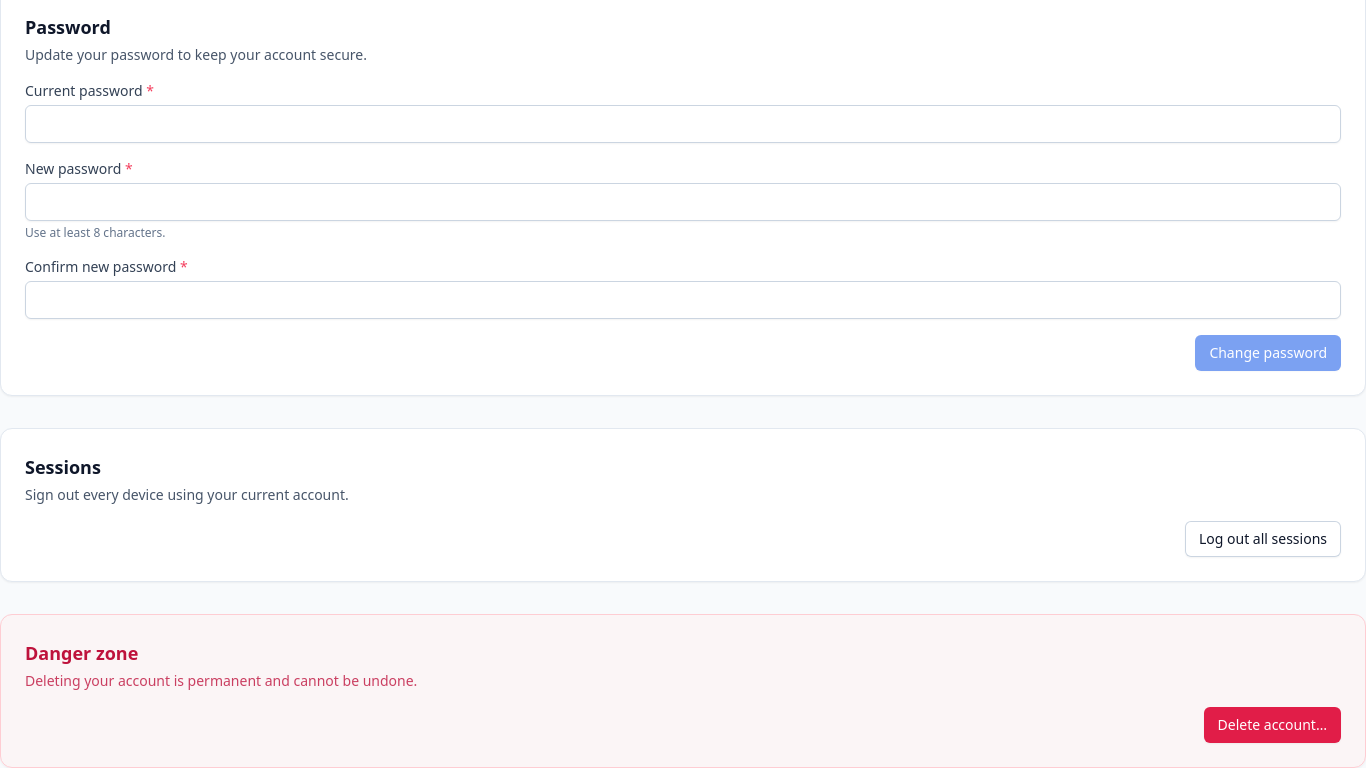
Test: ProfileView › requires the display name before enabling account deletion
The image size is (1366, 768).
(page scrolled)
Click the button with test id "open-delete-account" at (1272, 725), box [1204,707,1341,743]
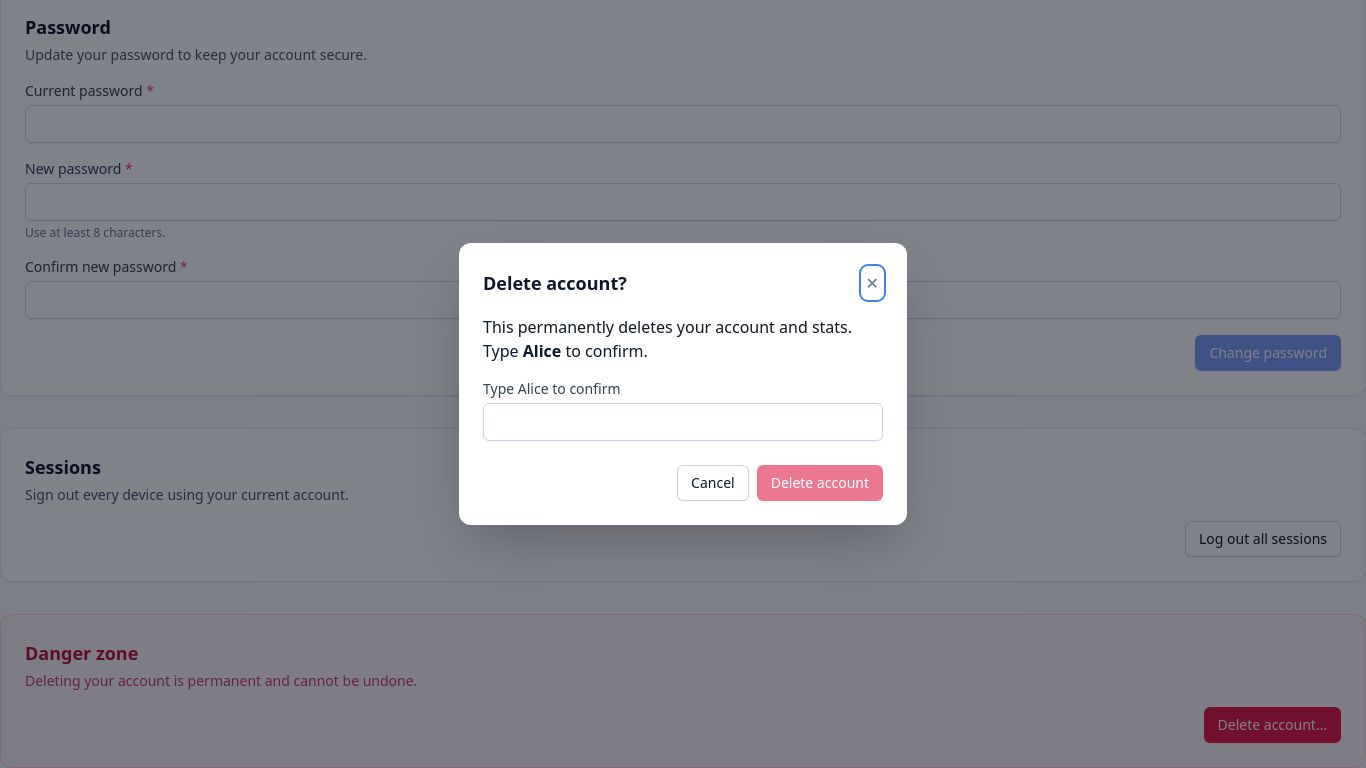
Expected: the button with test id "confirm-delete-account" is disabled, [757,465,883,501]
Type "Wrong" into the field with id "delete-account-confirmation" at (683, 422), box [483,403,883,441]
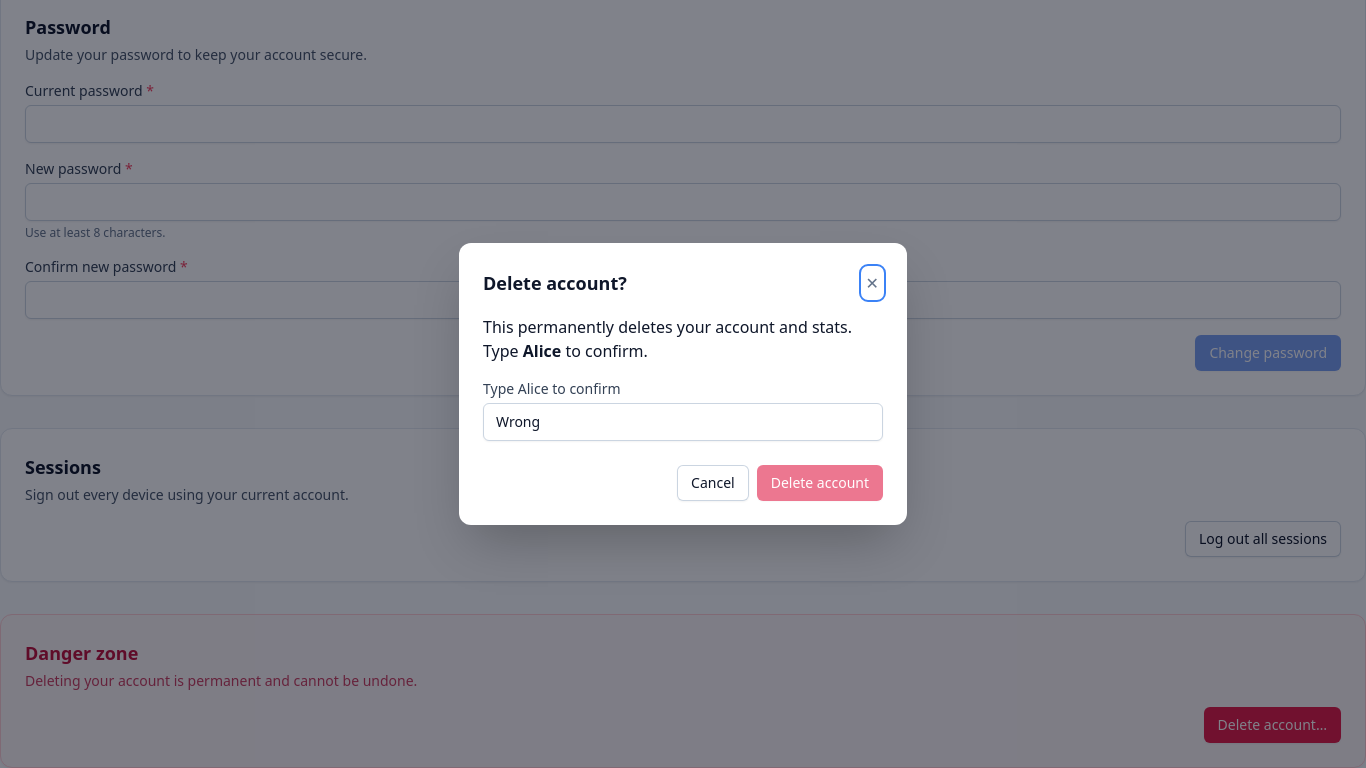
Expected: the button with test id "confirm-delete-account" is disabled, [757,465,883,501]
Replace the text in the field with id "delete-account-confirmation" with "Alice" at (683, 422), box [483,403,883,441]
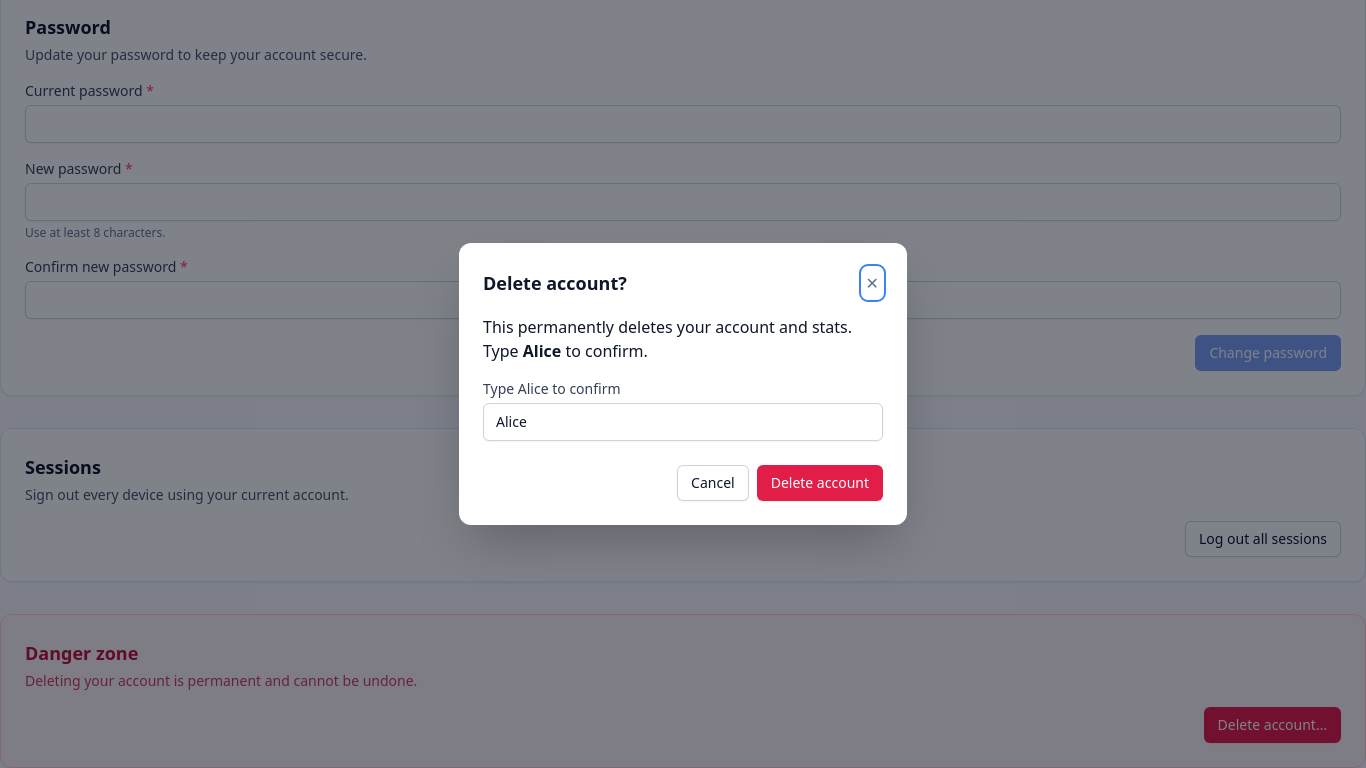
Expected: the button with test id "confirm-delete-account" is enabled, [757,465,883,501]
